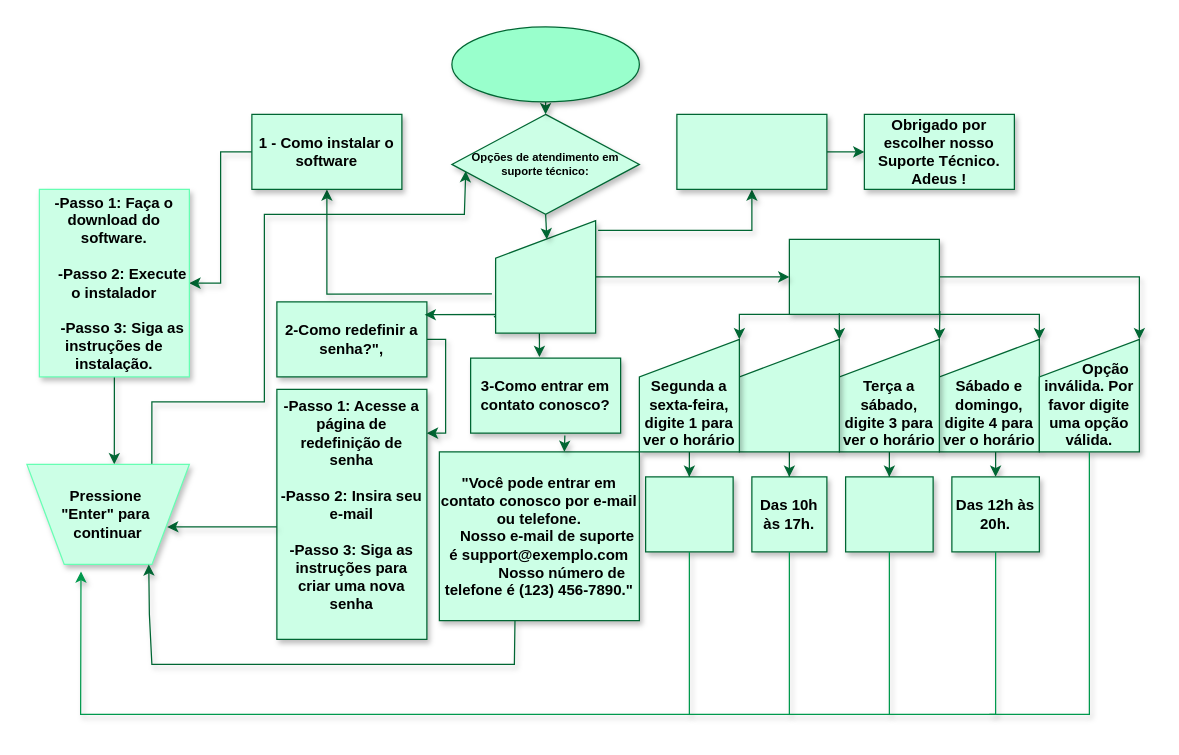
This 1179x755 diagram has some shape labels left out. Each missing label, with the centre of its shape:
4-Horário de Atendimento: (865,278)
5-Sair: (752,153)
Bem vindo ao Suporte Técnico!: (546,66)
Das 8h às 17h: (890,516)
Das 9h às 18h: (690,516)
Escolha uma opção: (1/2/3/4/5): (546,278)
Segunda a sexta-feira, digite 2 para ver o horário: (790,397)
